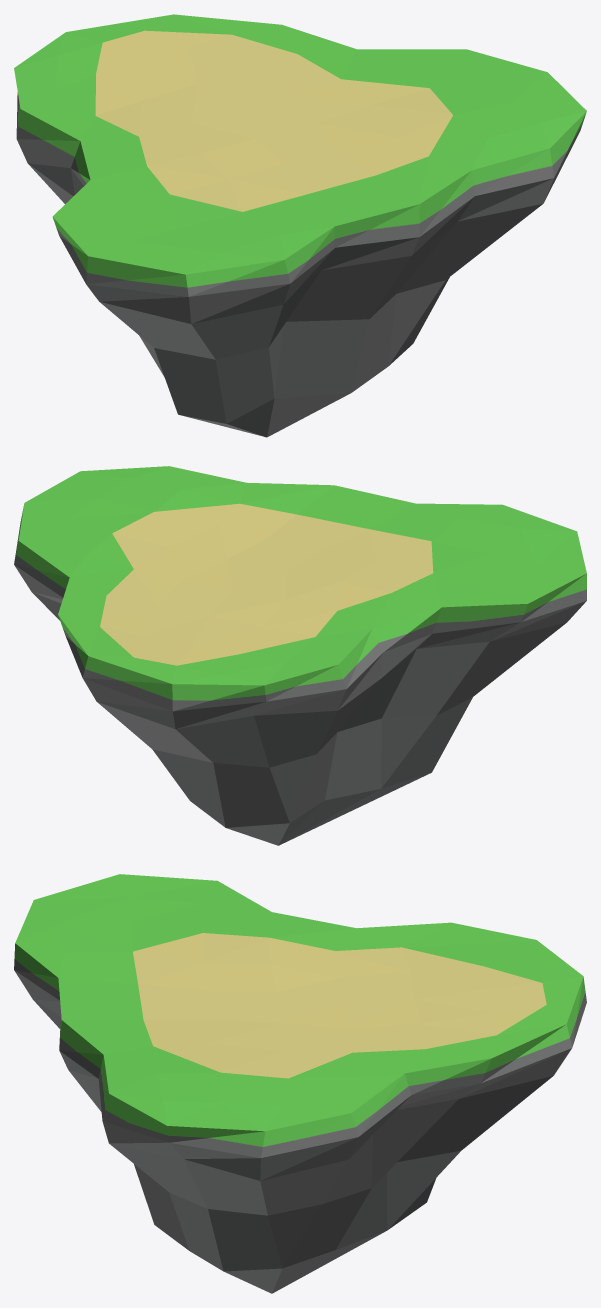
The model's file is um_ground003.FBX.
The picture shows the model from 3 angles, top to bottom: view 1: azimuth 30°, elevation 25°; view 2: azimuth 150°, elevation 25°; view 3: azimuth 270°, elevation 25°; orthographic projection. The views are drawn at different scales.
Parts seen in each view (by area): view 1: um_ground003; view 2: um_ground003; view 3: um_ground003.
Part boxes in pixels (x1,y1,x2,y2): um_ground003: [14, 14, 586, 437]; um_ground003: [14, 466, 586, 845]; um_ground003: [14, 874, 586, 1293].
Bounding box in the file's own units: 10.14 × 5.42 × 9.43.
